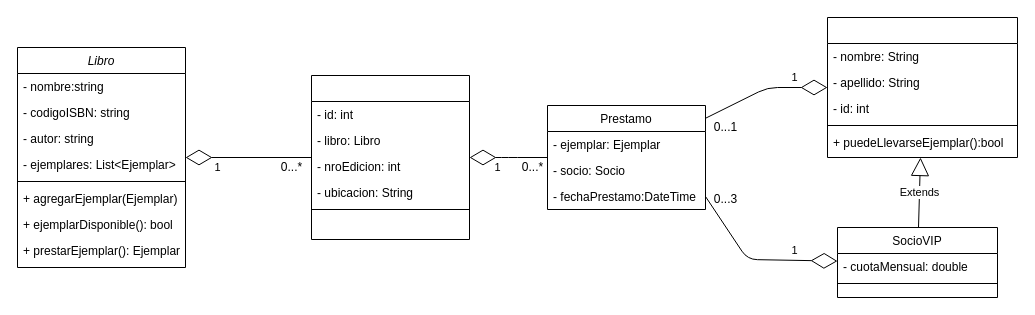
Some shapes in this 1035 by 315 pixel diagram are drawn without their labels. Each missing label, with the box of its shape:
Ejemplar: (310, 74, 470, 240)
Socio: (826, 16, 1018, 158)
